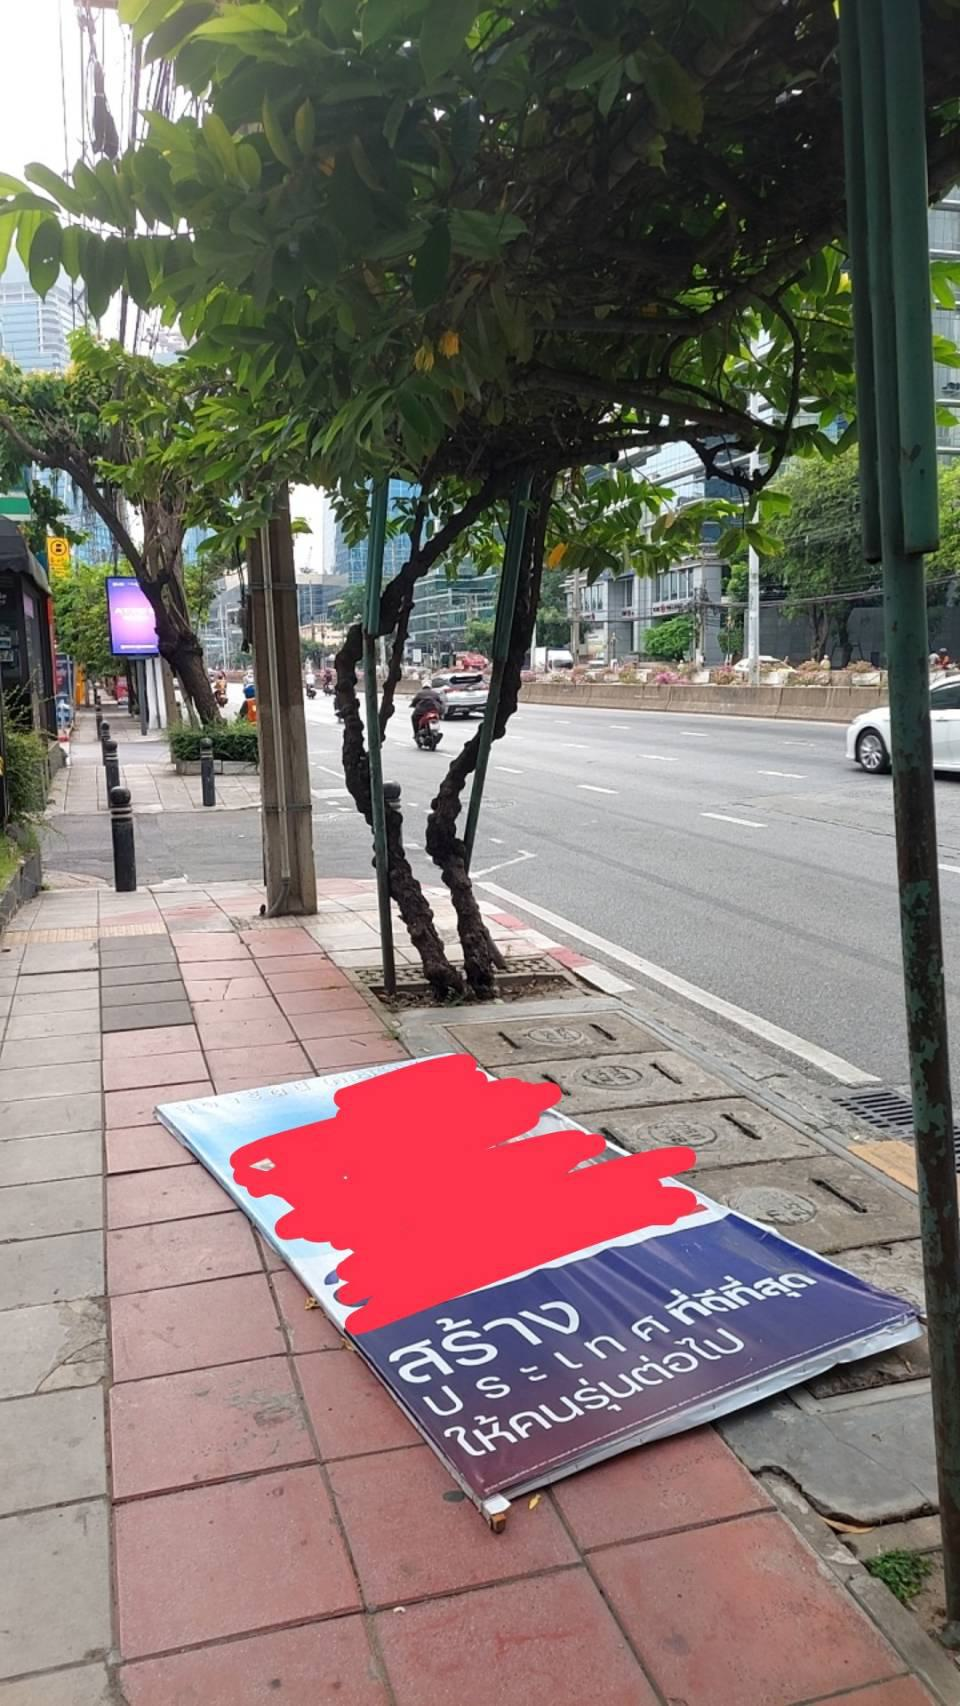Banner: (154, 1025, 925, 1541)
